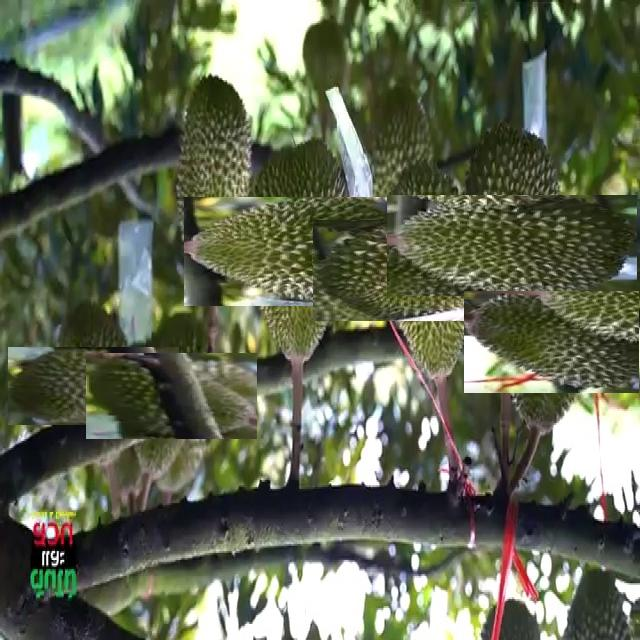durian: (424, 158, 600, 334), (216, 166, 387, 337), (344, 188, 509, 352), (486, 269, 631, 415), (175, 71, 254, 286), (106, 332, 236, 461), (30, 324, 156, 448)
